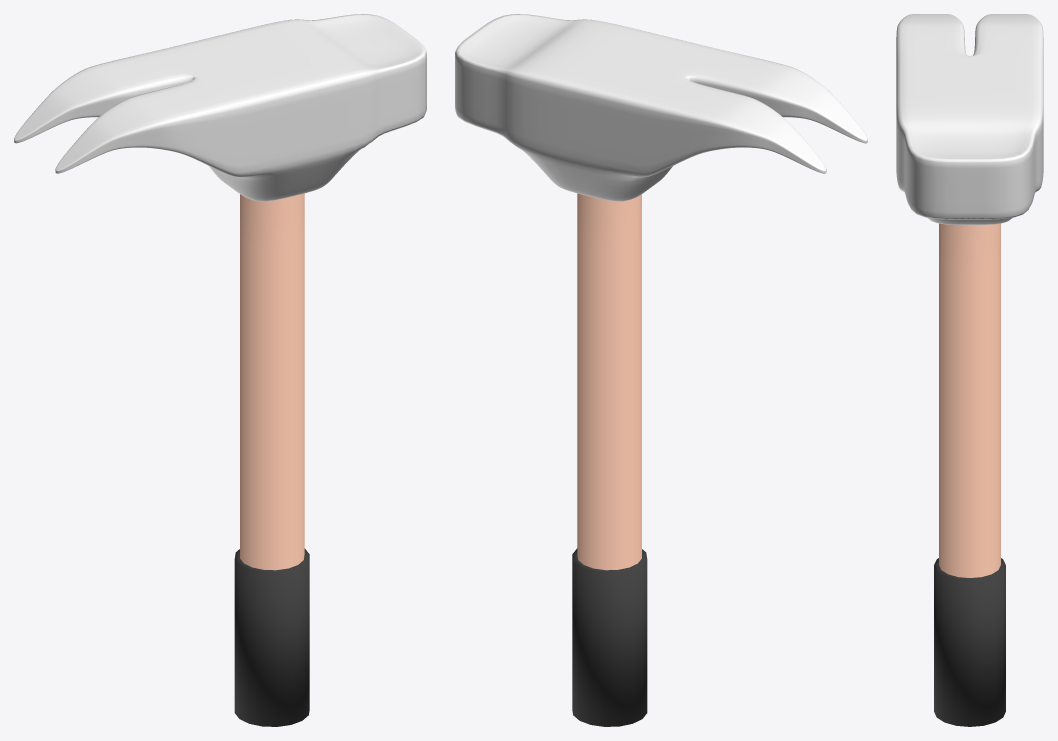
Rendered from hammer.glb.
3 renders of one model, left to right at view 1: azimuth 30°, elevation 25°; view 2: azimuth 150°, elevation 25°; view 3: azimuth 270°, elevation 25°, orthographic. The views are drawn at different scales.
Visible parts, largest first — view 1: Cube; view 2: Cube; view 3: Cube.
Part boxes in pixels (<box>): Cube: <box>14,14,426,726</box>; Cube: <box>455,14,867,726</box>; Cube: <box>896,14,1043,726</box>.
Bounding box in the file's own units: 5.54 × 9.27 × 2.
